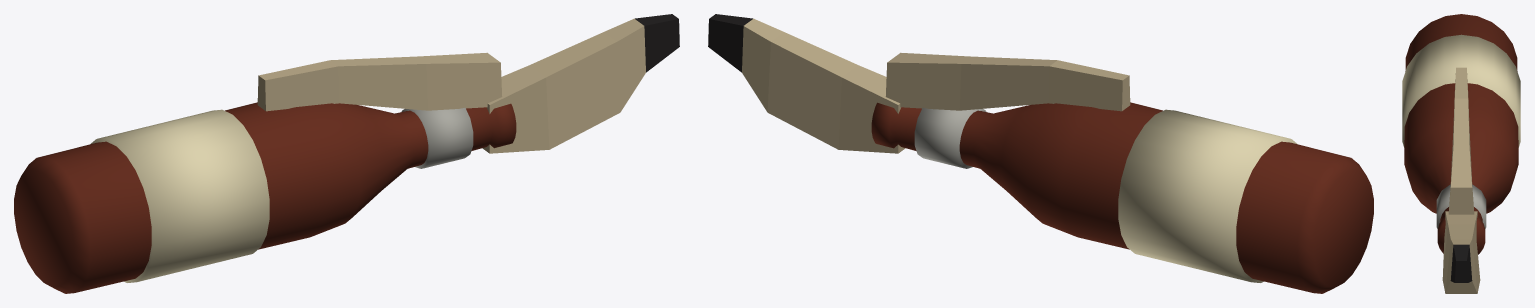
The model's file is held_bottle.glb.
3 views of the same model, side by side, from view 1: azimuth 30°, elevation 25°; view 2: azimuth 150°, elevation 25°; view 3: azimuth 270°, elevation 25° (orthographic). The views are drawn at different scales.
Visible parts, largest first — view 1: body, label, rag, rag_tail, neck_tape, rag_tip; view 2: body, label, rag, rag_tail, neck_tape, rag_tip; view 3: body, label, rag_tail, rag, rag_tip, neck_tape.
Boxes of the visible parts, x1,y1,x2,y2 form: body: (14,102,516,293); label: (90,109,269,282); rag: (482,18,645,153); rag_tail: (257,52,502,111); neck_tape: (401,108,473,168); rag_tip: (635,14,679,72); body: (871,102,1373,293); label: (1118,109,1297,282); rag: (742,18,905,153); rag_tail: (885,52,1130,111); neck_tape: (914,108,986,168); rag_tip: (708,14,752,72); body: (1404,14,1518,254); label: (1402,34,1520,147); rag_tail: (1448,67,1474,214); rag: (1442,211,1480,293); rag_tip: (1450,244,1472,282); neck_tape: (1436,184,1486,228).
Size of the model in its own units: 0.435 by 0.1085 by 0.0881.
